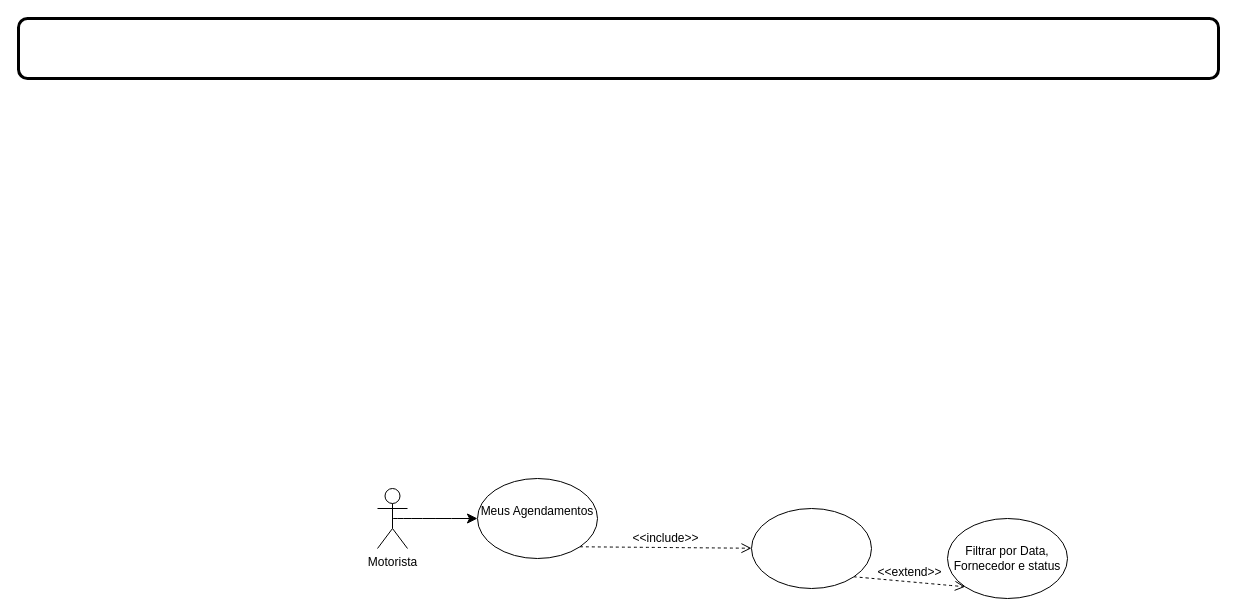
The diagram is 1237 pixels wide and 616 high, and some of its shapes have lost their labels. The shapes that lost their labels are listed below. From the top down, each one's box as (x1, y1, x2, y2) in pixels, then its label:
(16, 16, 1220, 80): CASO DE USO 04
(750, 508, 872, 588): Exibição de agendamentos
